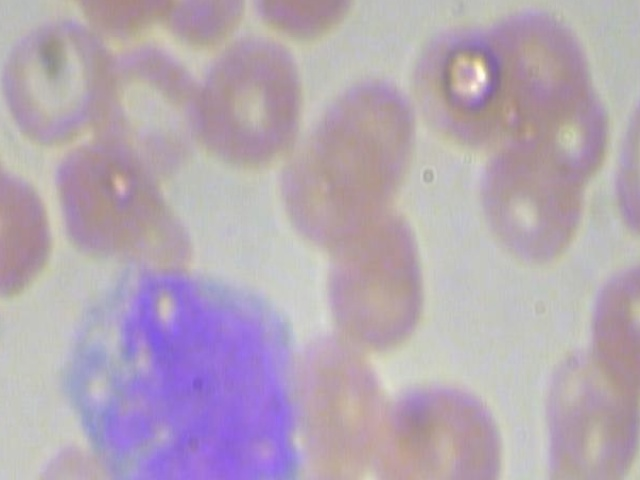RBC: (188, 25, 311, 171), (472, 126, 595, 272), (314, 199, 437, 345), (280, 115, 403, 260), (0, 2, 116, 148), (405, 10, 514, 155), (49, 136, 162, 262), (388, 366, 511, 480), (0, 159, 74, 305), (271, 459, 384, 480)
WBC: (52, 244, 314, 480)
